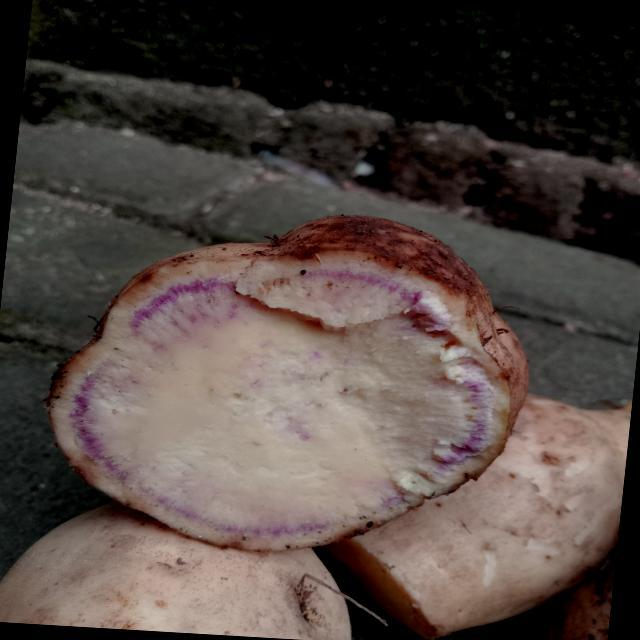Healthy Sweet Potato: (48, 262, 508, 550)
